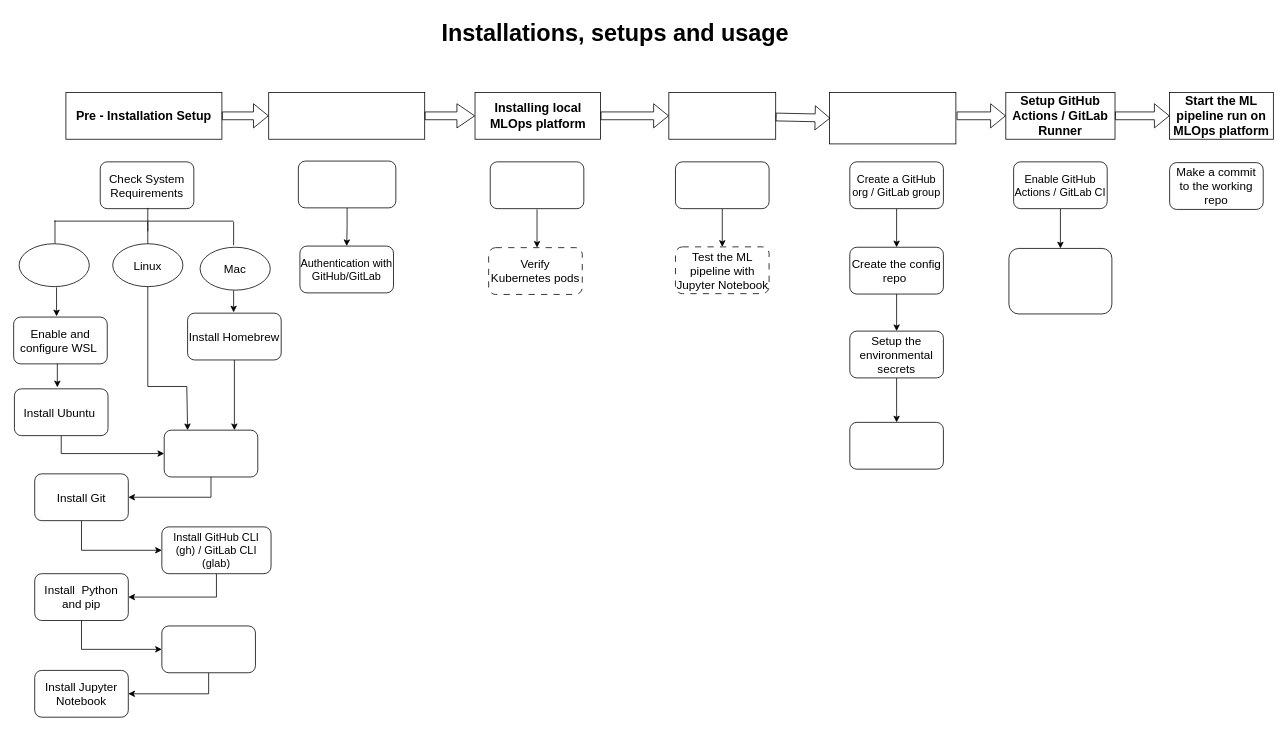
This 1287x731 diagram has some shape labels left out. The box of each missing label's shape, as (x1, y1, x2, y2) in pixels:
Clone the main repository to your local folder: (298, 160, 396, 208)
Cloning the tooling repo & gh/glab authentication: (268, 92, 425, 139)
Create the working repo: (849, 422, 943, 469)
Forward the pods' ports: (675, 161, 769, 209)
Install Docker: (163, 429, 258, 477)
Install Kubernetes CLI: (161, 625, 255, 673)
Install the actions/GitLab runner & associate with the repo: (1008, 248, 1112, 314)
Portforwarding the Kubeflow pods: (668, 92, 776, 139)
Run setup script: (489, 161, 584, 209)
Setup repositories and CI/CD pipelines with the tool: (829, 92, 956, 144)
Windows: (18, 243, 89, 287)
